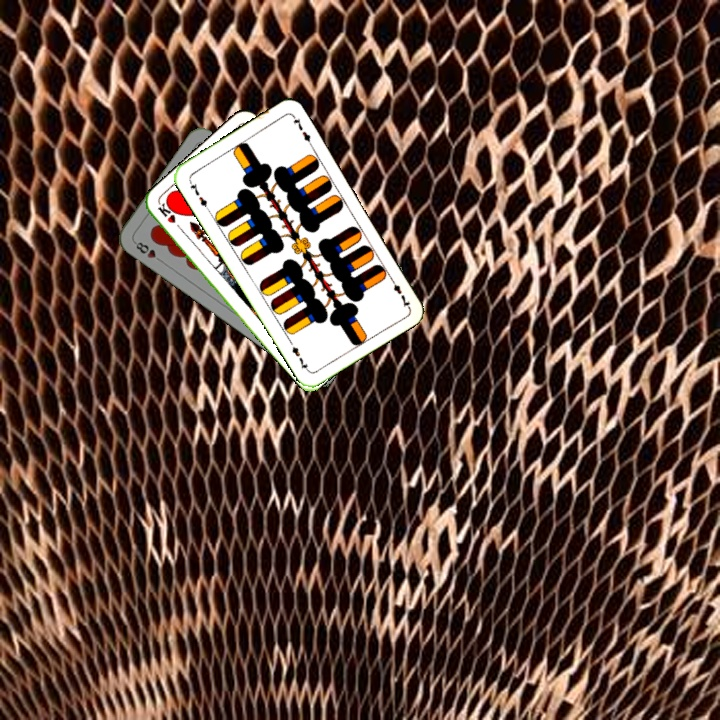E7: (185, 176, 212, 213), (386, 273, 413, 310)
H8: (130, 237, 166, 265)
HK: (154, 200, 186, 235)
